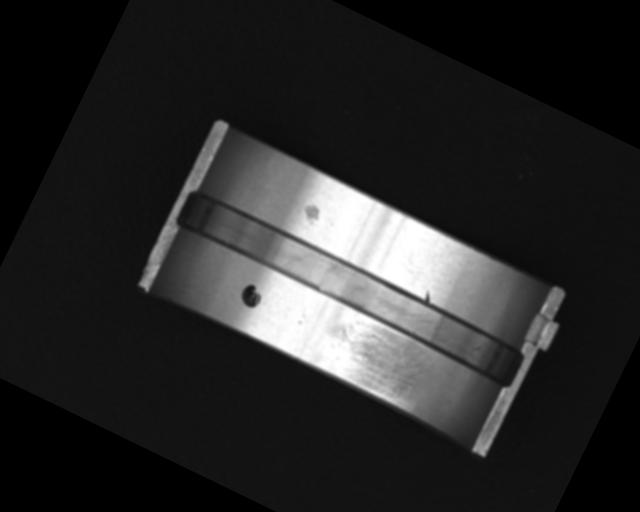blot: (236, 280, 265, 311)
bruise: (296, 199, 324, 229), (421, 288, 434, 303)
gap: (171, 186, 531, 389)
scratch: (312, 306, 438, 411)
